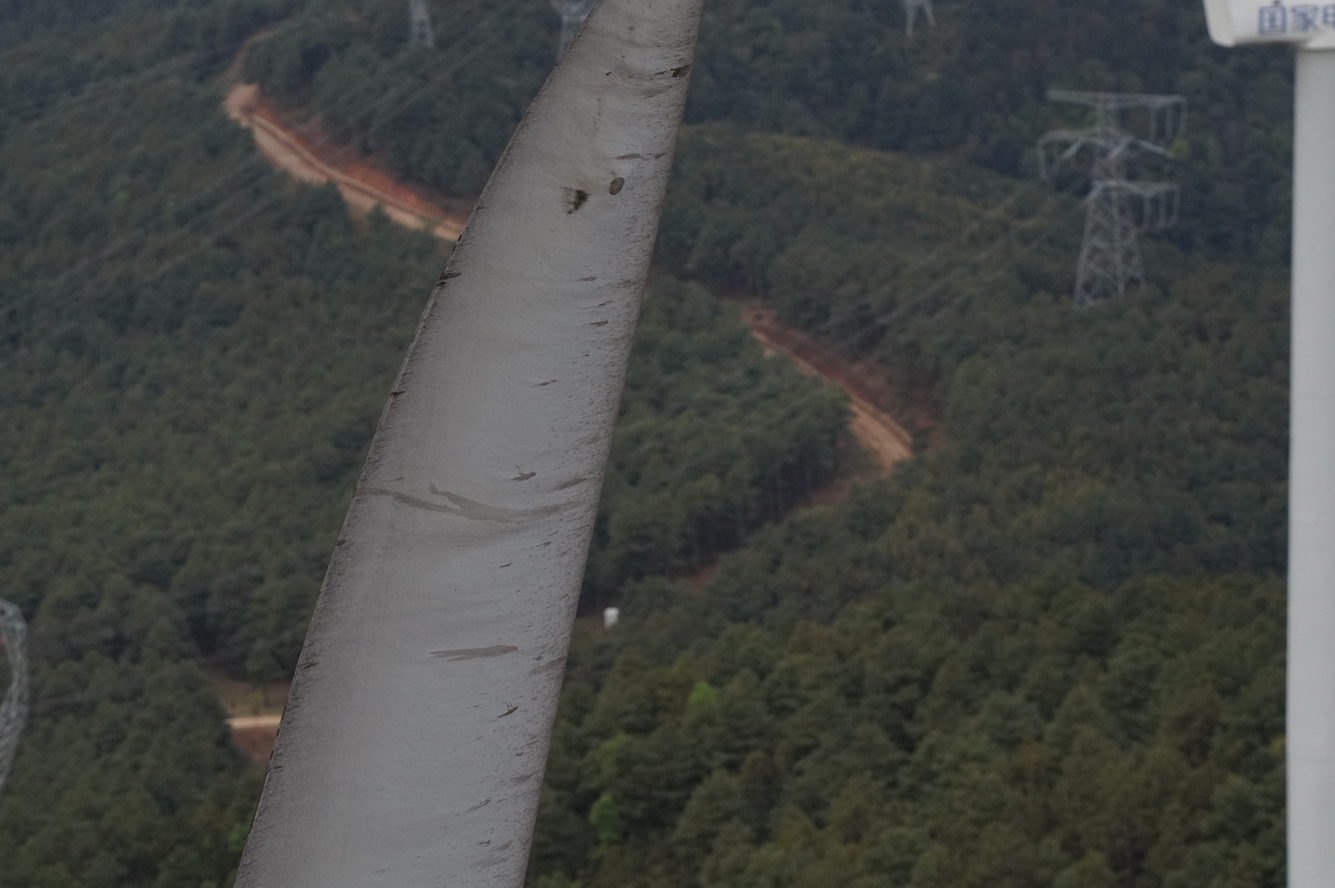Dirt: (561, 184, 590, 218)
